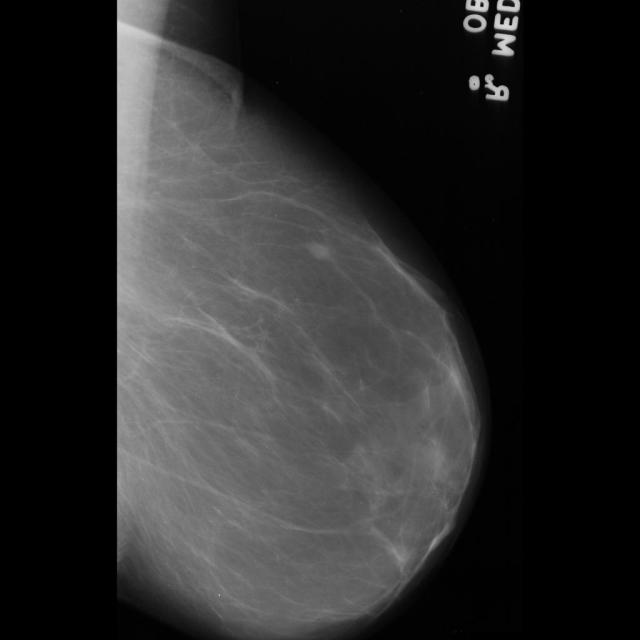tumour: (304, 241, 330, 261)
